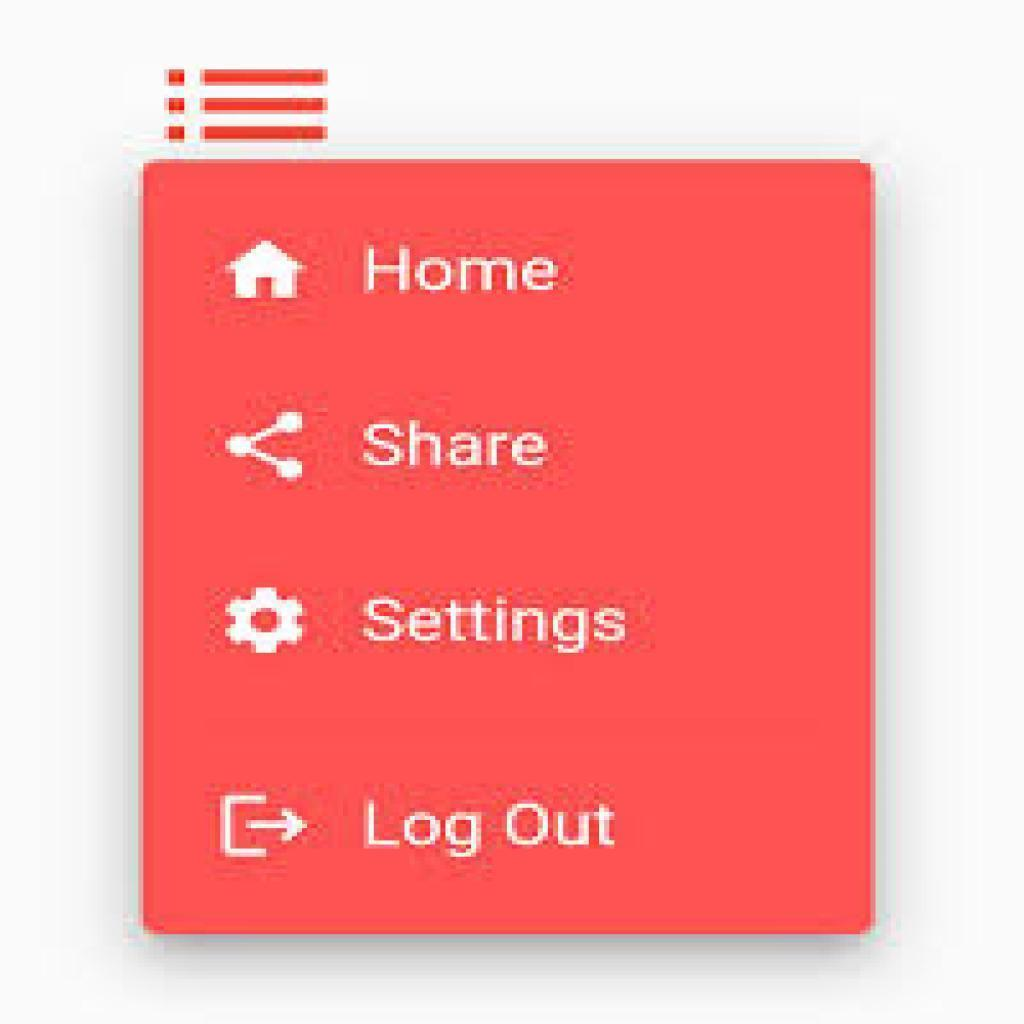icon: (159, 56, 335, 160), (217, 395, 312, 500), (208, 773, 313, 868), (217, 227, 311, 324), (212, 581, 319, 658)
